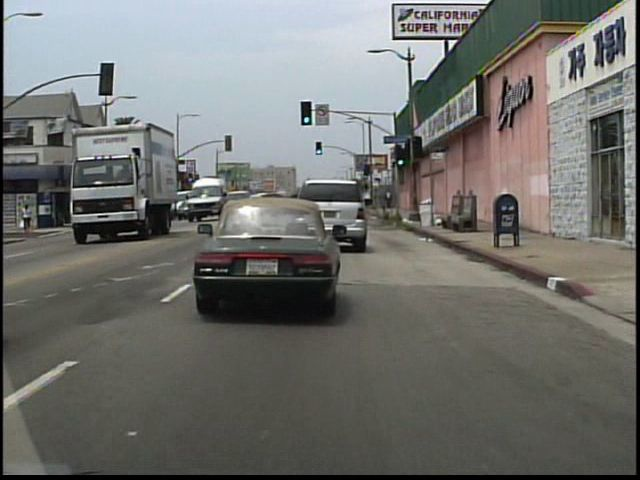person: (23, 205, 34, 234), (385, 188, 394, 210)
